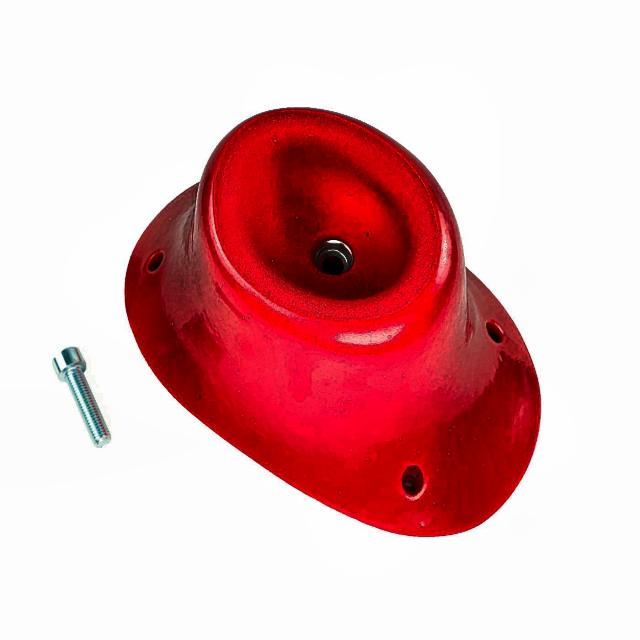Hold: (127, 108, 538, 538)
